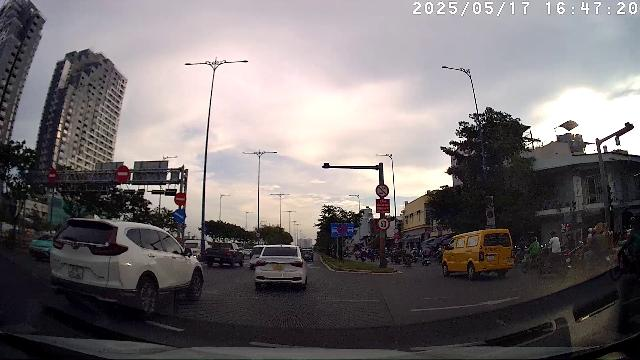127-toc-do-toi-da-60: (377, 217, 391, 231)
